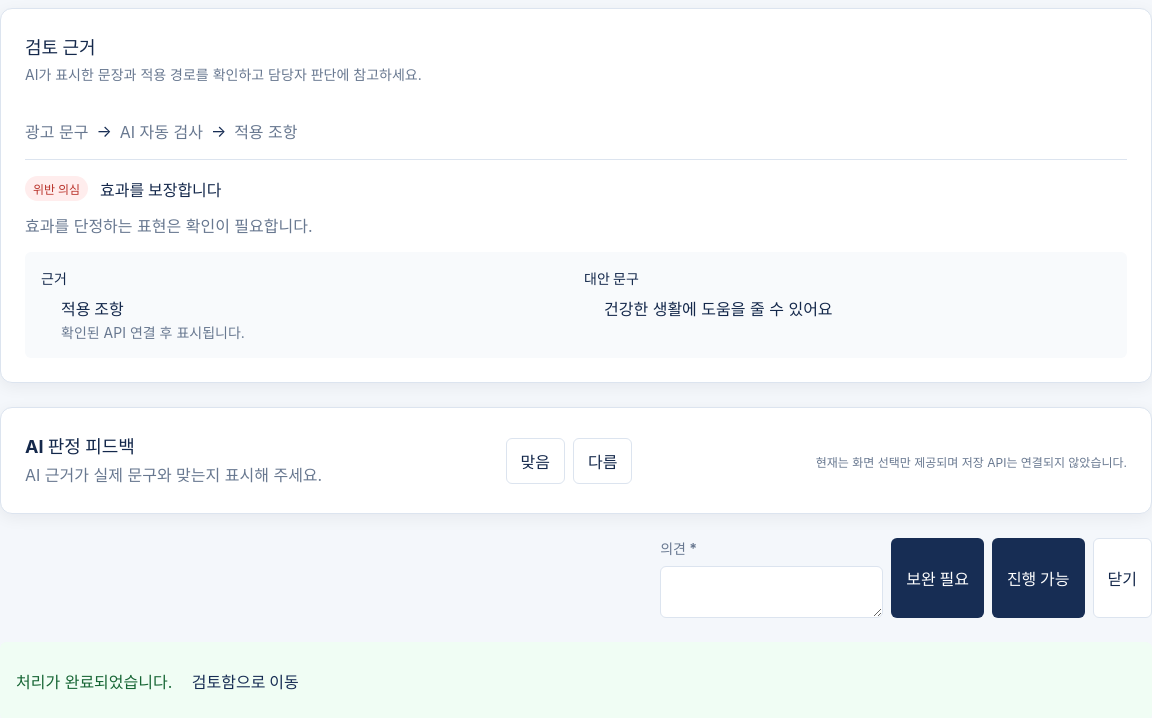
it: ReviewWorkflowReport › lets only a legal reviewer complete a legal review with a required opinion
The image size is (1152, 718).
(page scrolled)
Click the button "진행 가능" at (1038, 578), box [992, 538, 1085, 618]
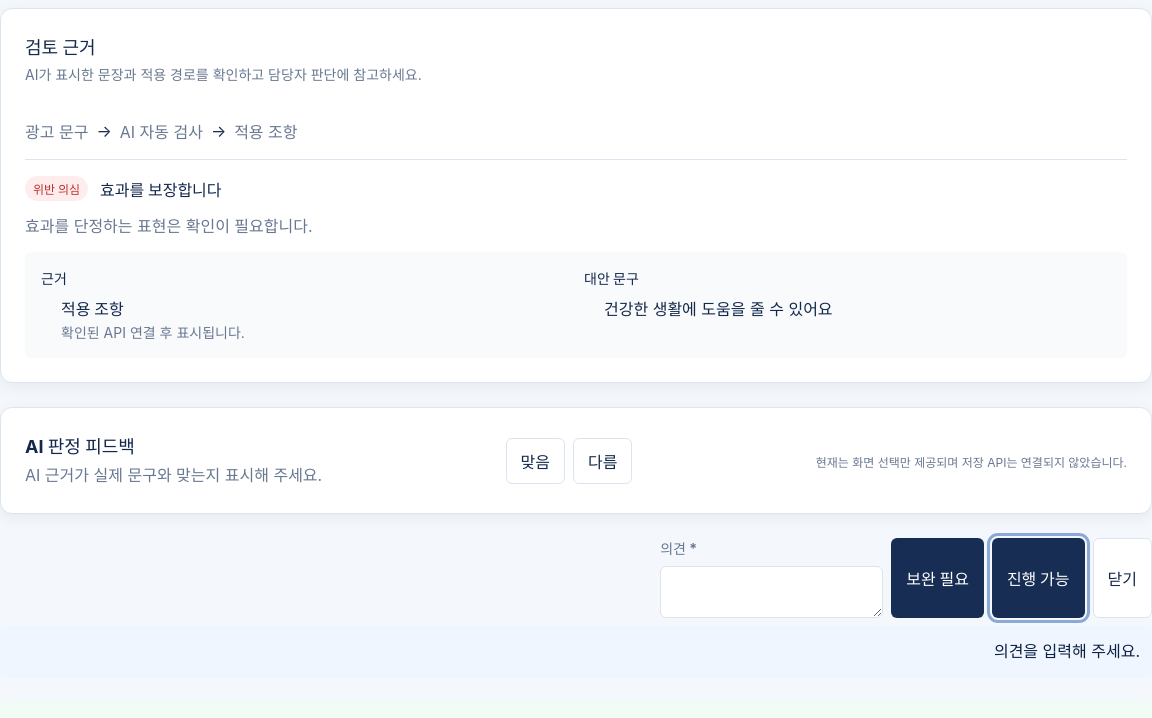
Type "표현상 문제가 없어 승인합니다." into the text box labelled "의견" at (772, 592), box [660, 566, 883, 618]
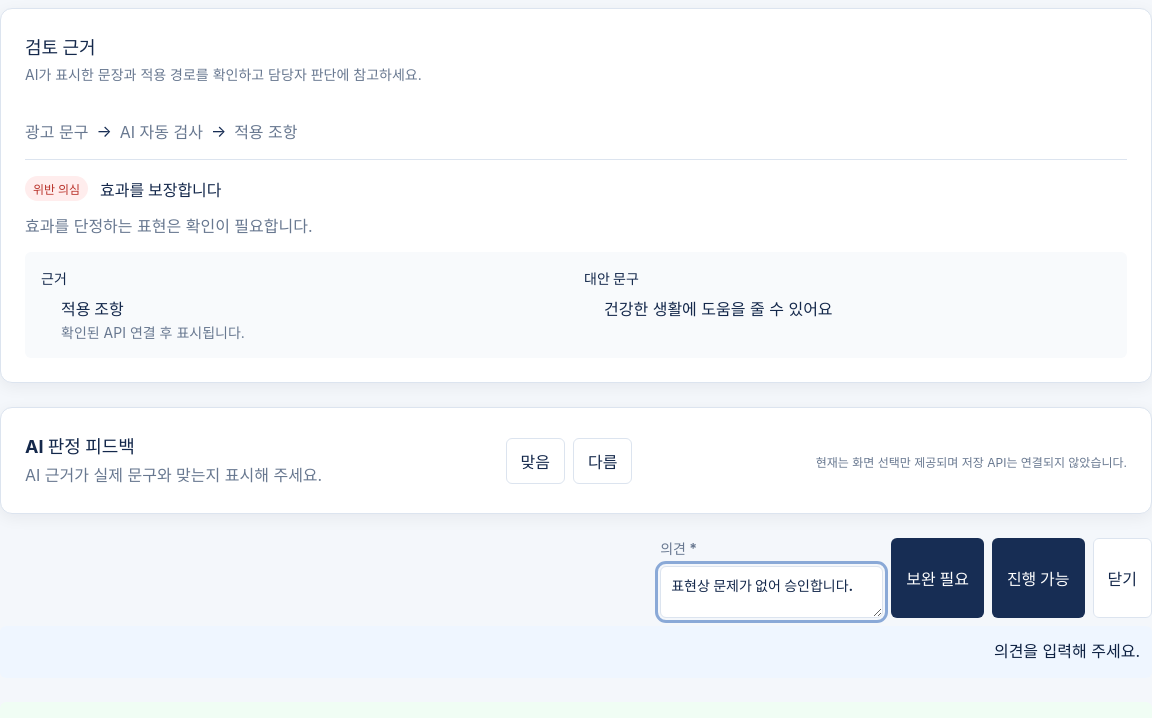
Click the button "진행 가능" at (1038, 578), box [992, 538, 1085, 618]
(page scrolled)
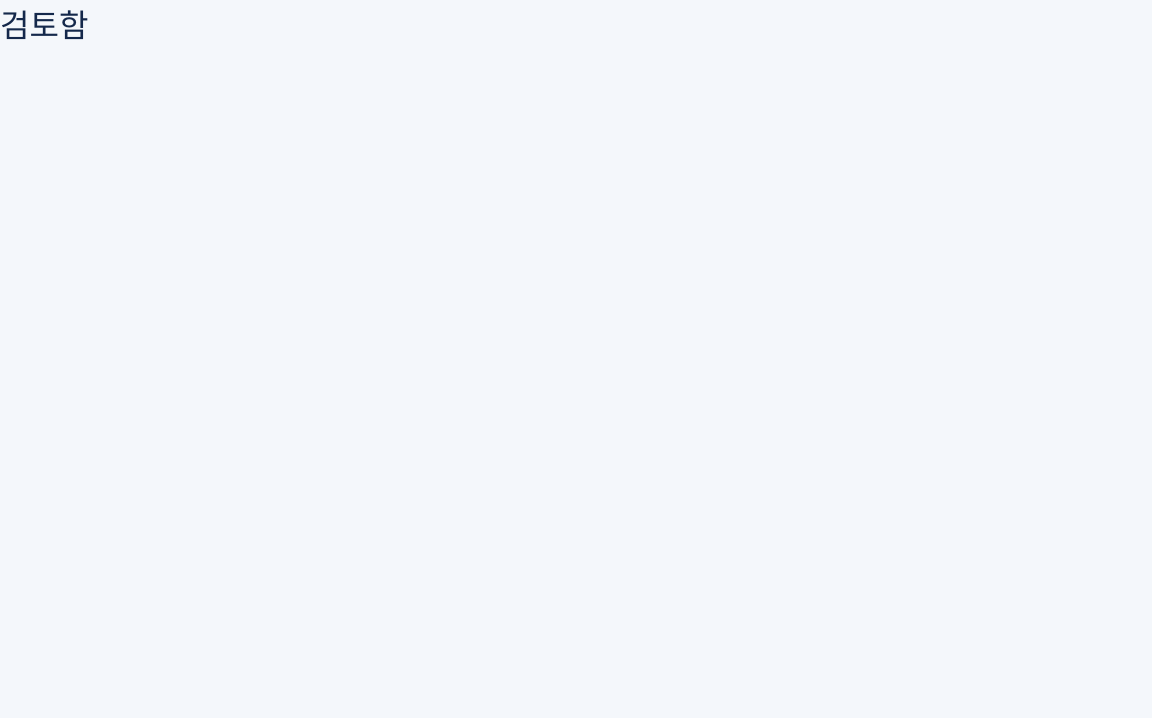
Expected: the heading "검토함" is shown, [0, 6, 88, 45]
